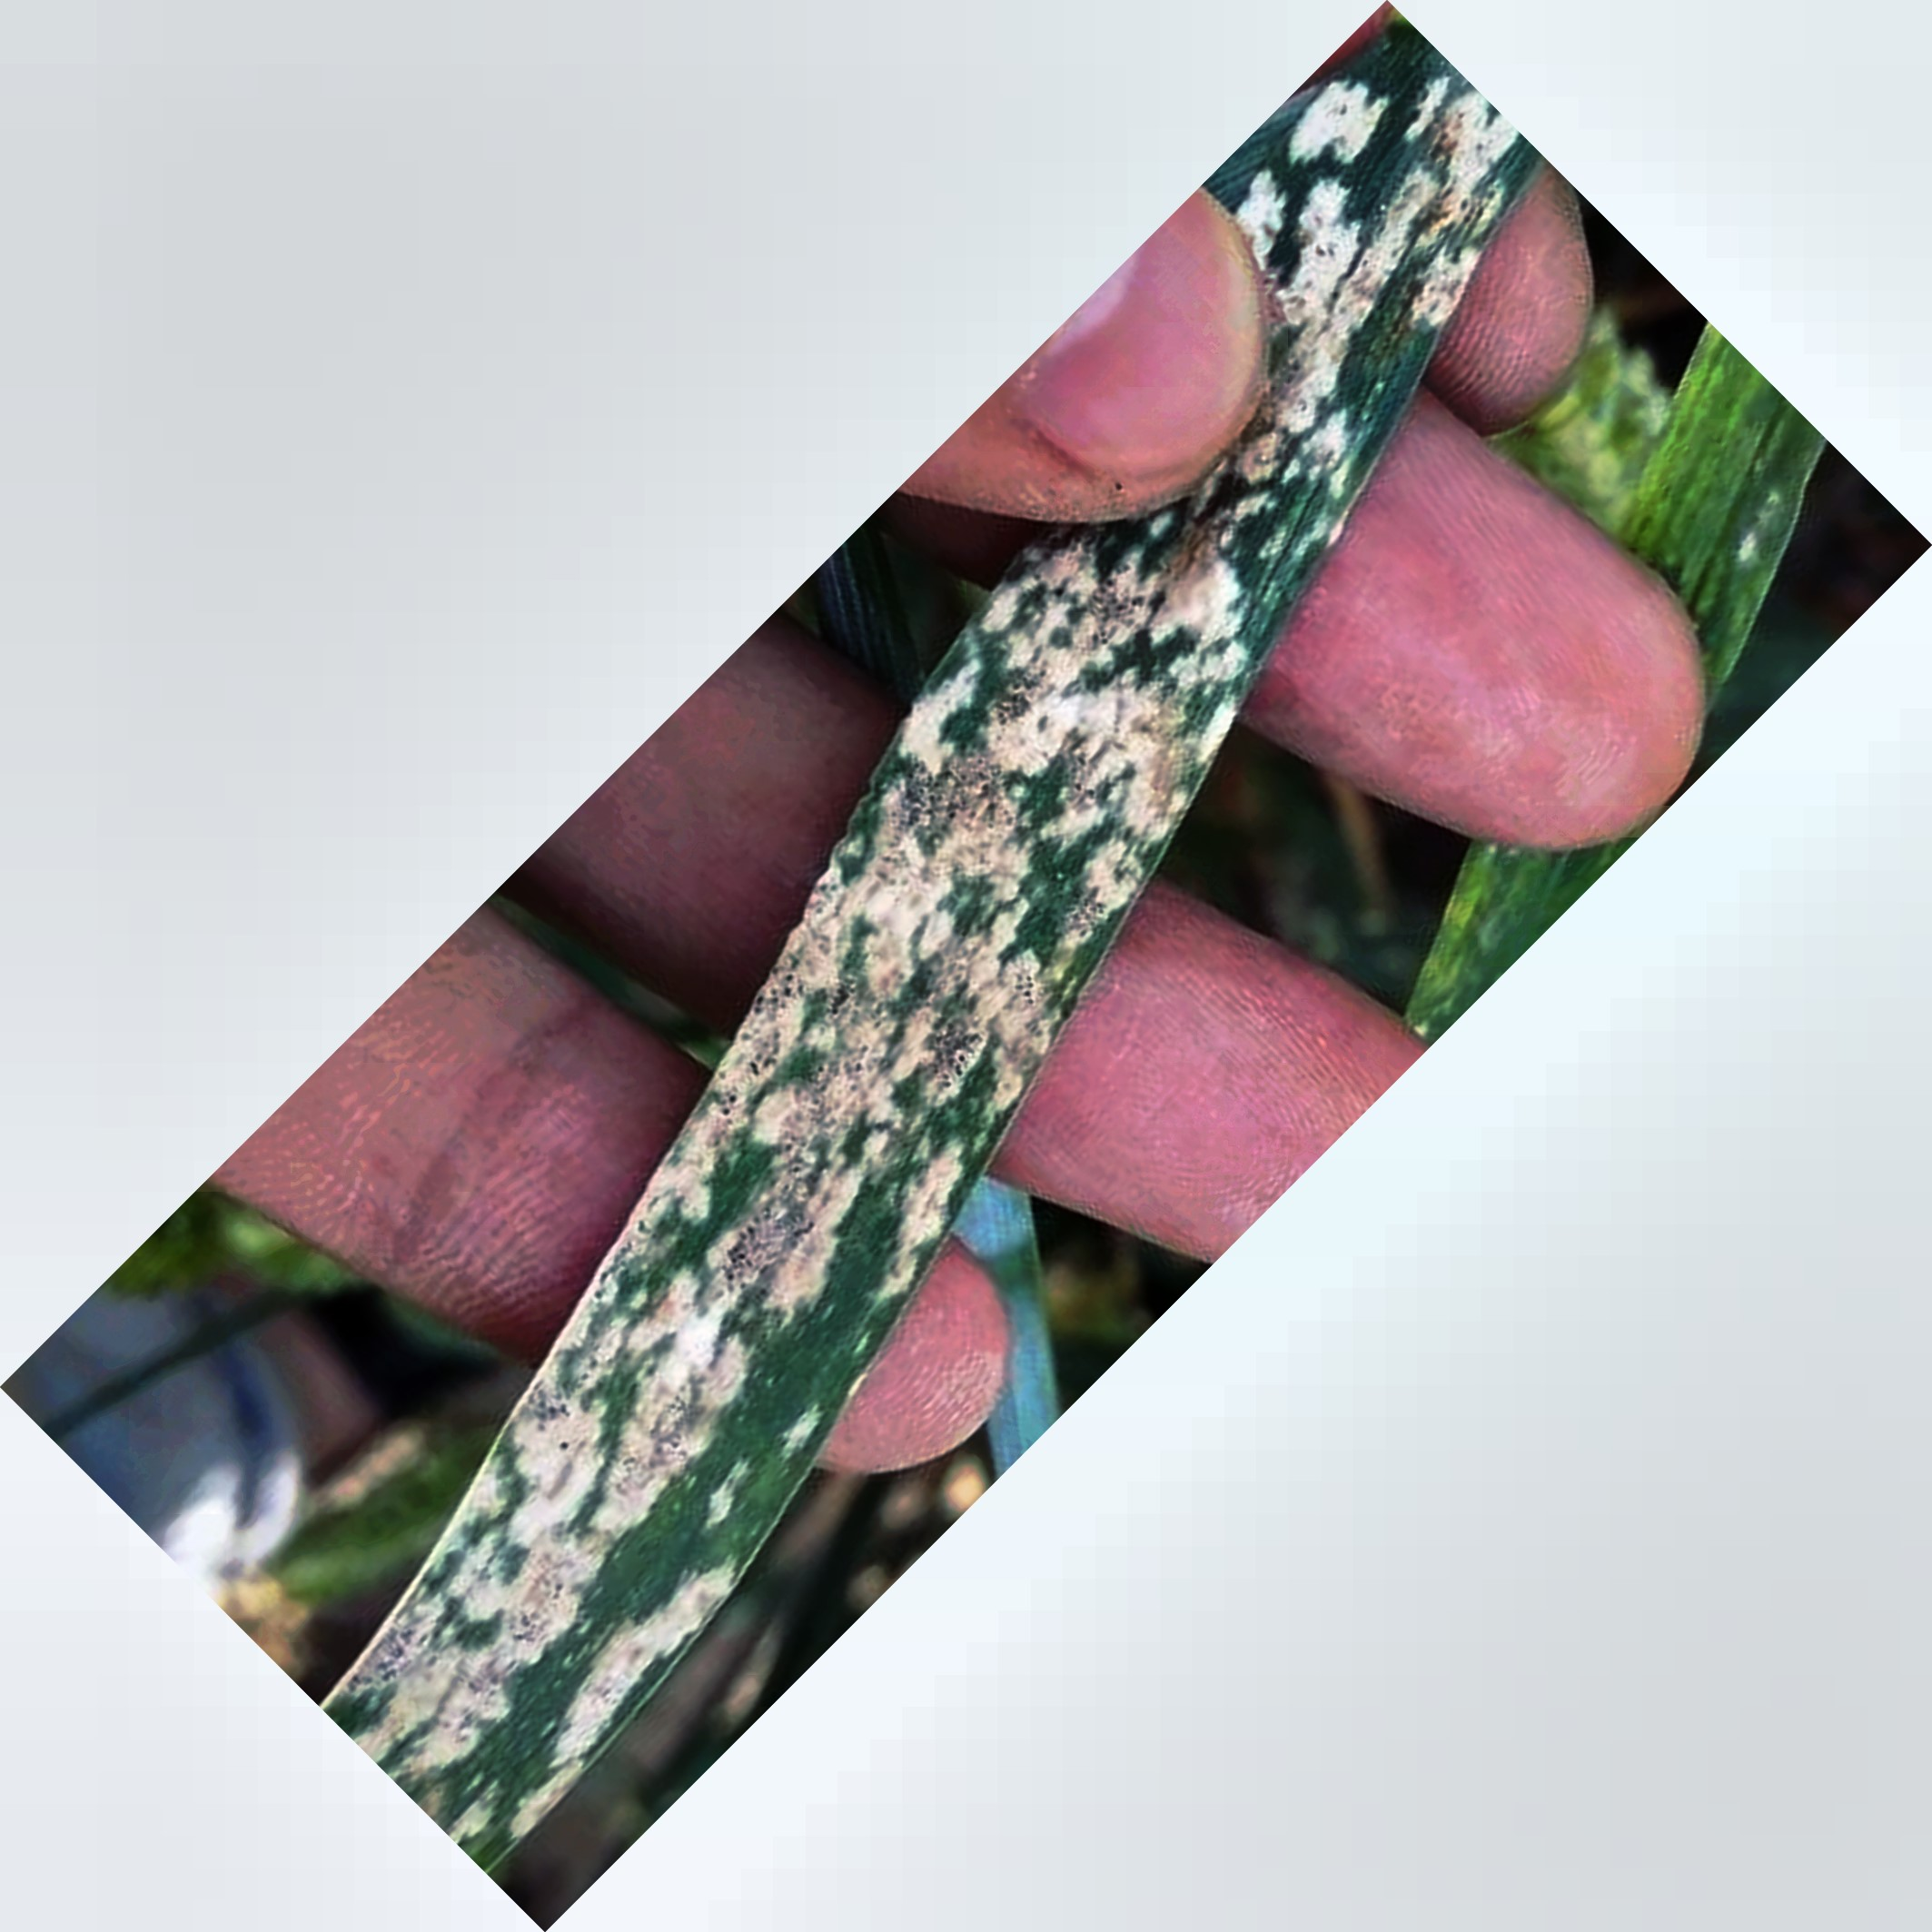Powdery Mildew: (403, 536, 1246, 1783)
